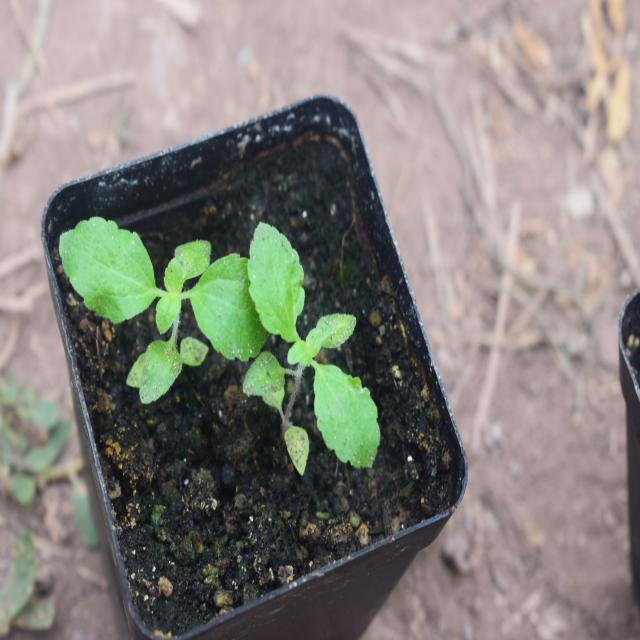billygoat_weed: (61, 206, 252, 398), (253, 210, 388, 471)
